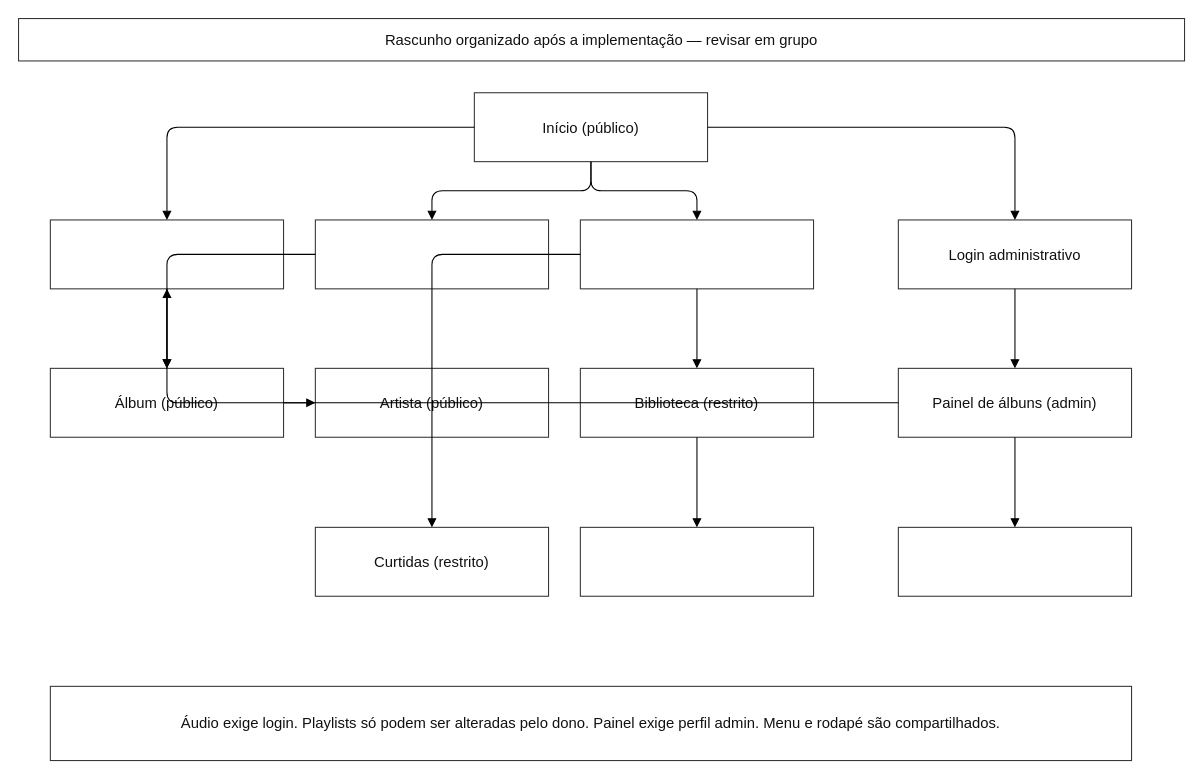
Some shapes in this 1203 by 779 pixel diagram are drawn without their labels. Here are the shapes that lost their labels. From the top down, the box of each, then its label:
(49, 219, 284, 289): Catálogo (público)
(314, 219, 549, 289): Busca (público)
(579, 219, 814, 289): Login / Cadastro
(579, 526, 814, 596): Playlist (restrito)
(897, 526, 1132, 596): Cadastros recebidos (admin)
